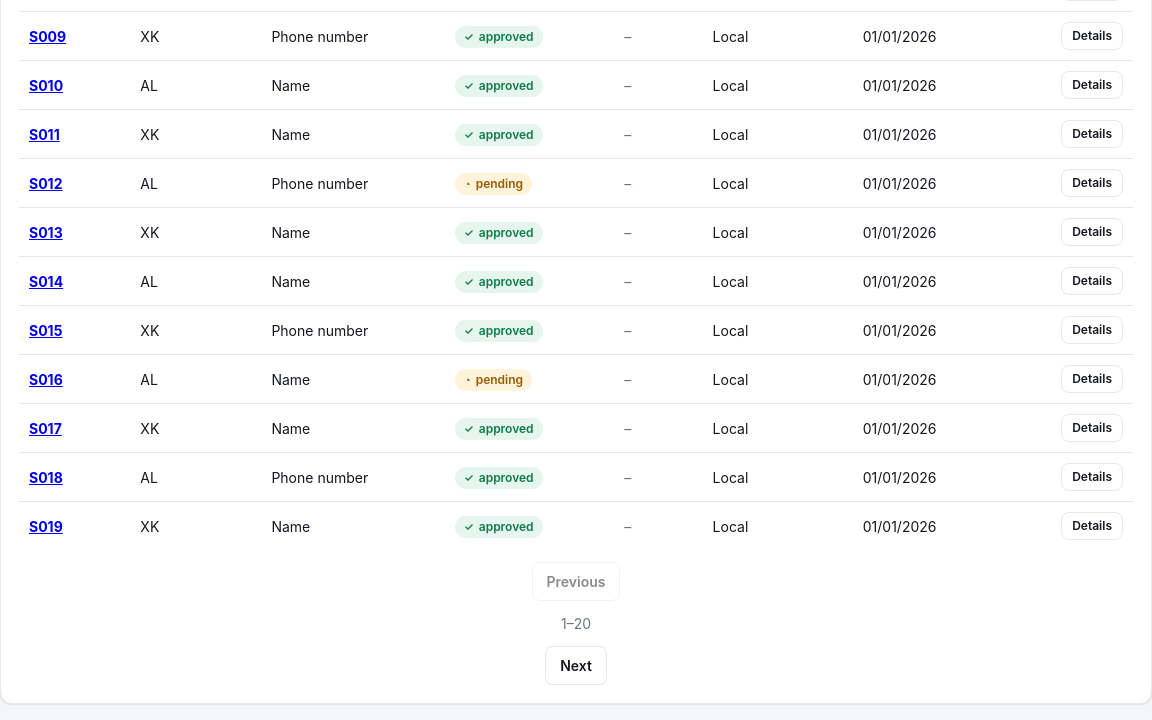
it: filters, pagination, empty, loading, errors › 26 paginates the loaded rows (20 per page)
The image size is (1152, 720).
(page scrolled)
Click the button "Next". click: {"x": 576, "y": 666}
box: [545, 646, 607, 685]
(page scrolled)
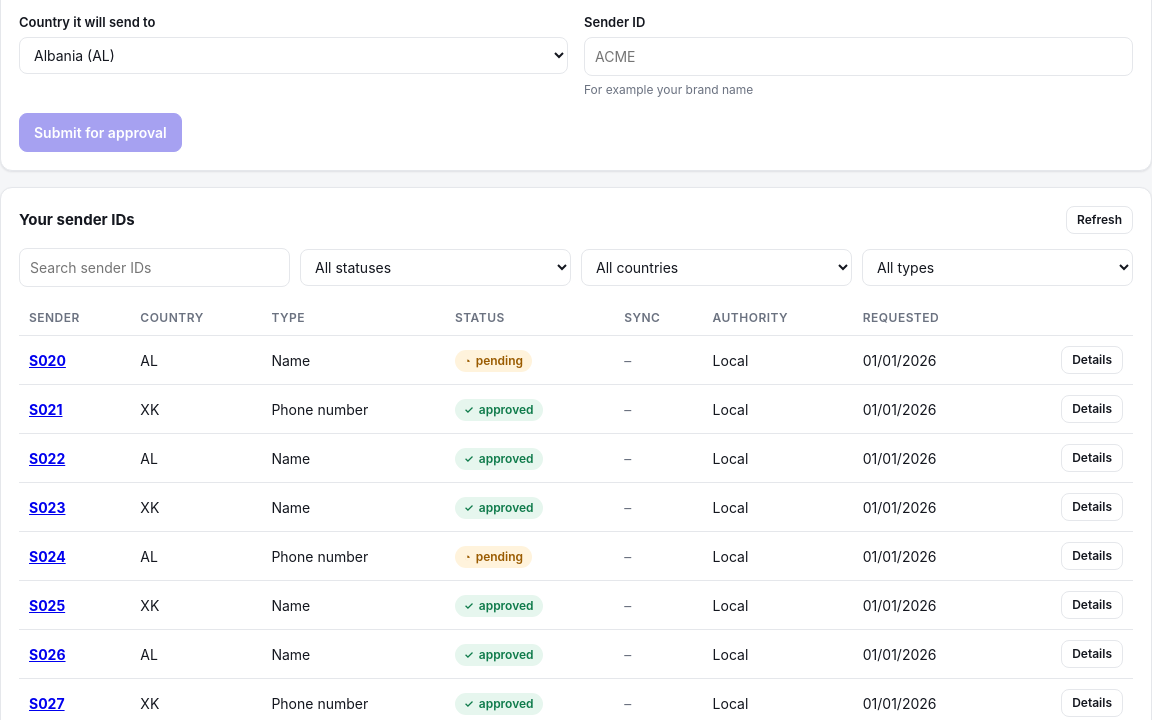
expect the text "S020" is shown: met, box [29, 352, 66, 368]
